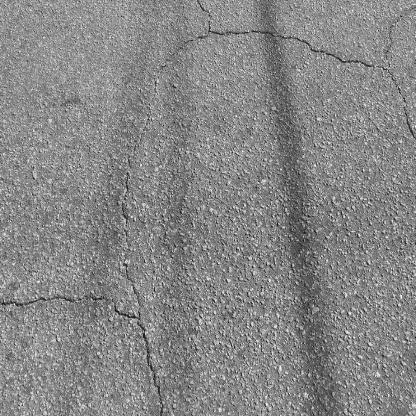Cracks: (118, 31, 211, 291), (199, 28, 398, 75), (0, 287, 145, 329), (128, 316, 172, 416), (384, 67, 416, 190), (186, 0, 219, 35)
